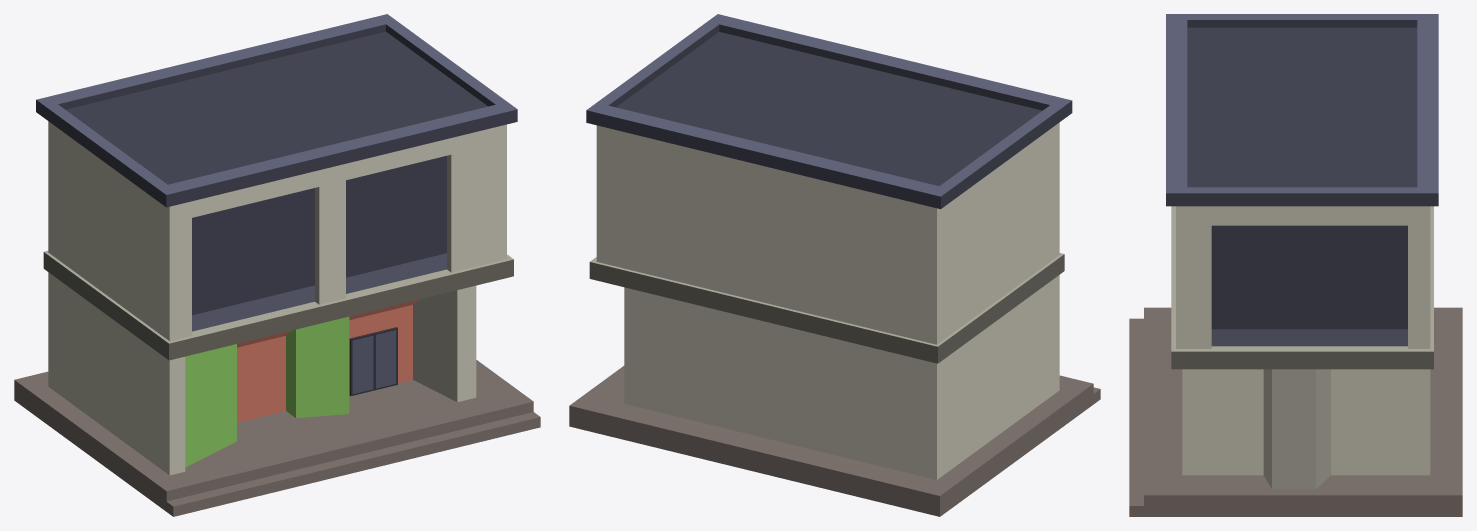
The model's file is house08_color03.fbx.
3 views of the same model, side by side, from view 1: azimuth 30°, elevation 25°; view 2: azimuth 150°, elevation 25°; view 3: azimuth 270°, elevation 25° (orthographic). The views are drawn at different scales.
Parts seen in each view (by area): view 1: house08_color03; view 2: house08_color03; view 3: house08_color03.
Part boxes in pixels (left/top/right/bottom): house08_color03: left=14, top=14, right=540, bottom=516; house08_color03: left=569, top=14, right=1100, bottom=516; house08_color03: left=1129, top=14, right=1462, bottom=516.
Bounding box in the file's own units: 1448 × 1155 × 1087.
